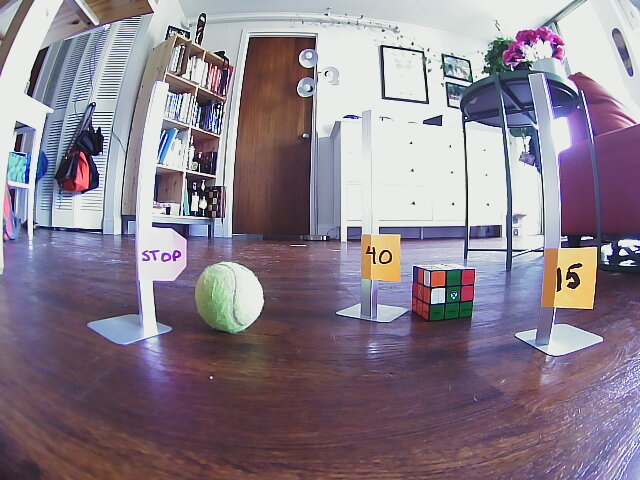15: (540, 246, 599, 312)
40: (360, 232, 403, 285)
ball: (192, 265, 266, 333)
cube: (409, 264, 475, 319)
stop: (136, 225, 187, 285)
